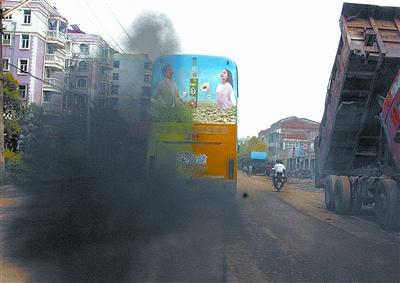smoke: (1, 117, 212, 283)
